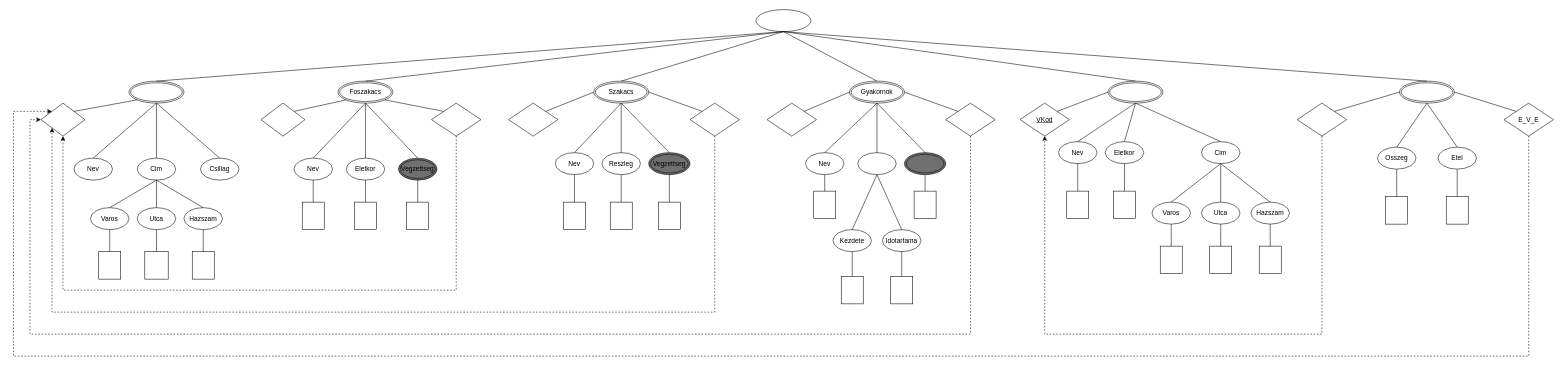
Some shapes in this 1563 by 370 pixel diagram are drawn without their labels. The shapes that lost their labels are listed below. From the top down, each one's centre as x and y in pixels, then its label:
At point 783,20: "Vendeglatas".
At point 156,92: "Etterem".
At point 1135,92: "Vendeg".
At point 1426,92: "Rendeles".
At point 62,119: "Ekod".
At point 282,119: "Fkod".
At point 456,119: "E_F".
At point 533,119: "SzKod".
At point 714,119: "E_SZ".
At point 791,119: "GyKod".
At point 970,119: "E_GY".
At point 1322,119: "E_V_V".
At point 876,163: "Gyakorlat".
At point 925,163: "Muszak".
